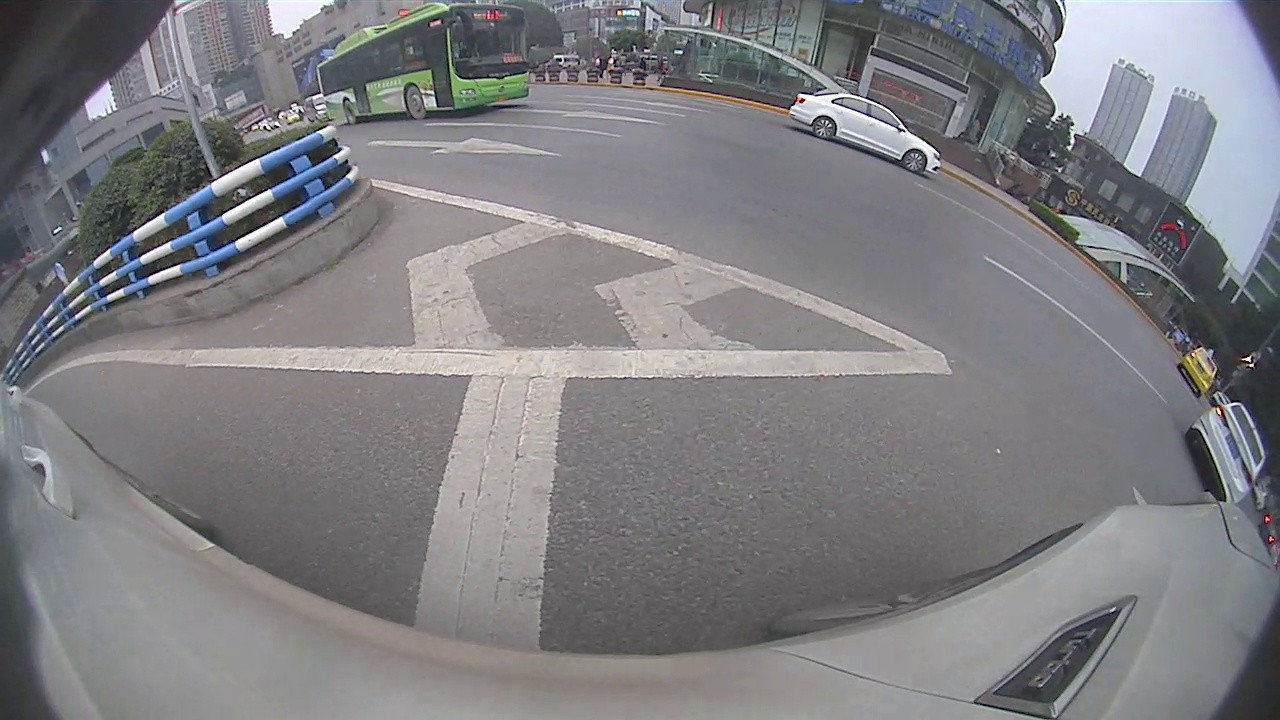bus: (313, 1, 532, 128)
car: (786, 87, 945, 180), (1184, 401, 1268, 508), (1177, 346, 1221, 399)
front: (404, 84, 428, 122), (901, 151, 926, 173)
rear: (812, 116, 836, 142), (342, 99, 359, 128)
